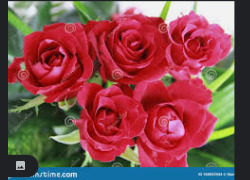RedRose: (132, 80, 216, 168), (3, 21, 92, 103), (89, 13, 170, 85), (77, 87, 147, 162), (170, 15, 231, 72)
